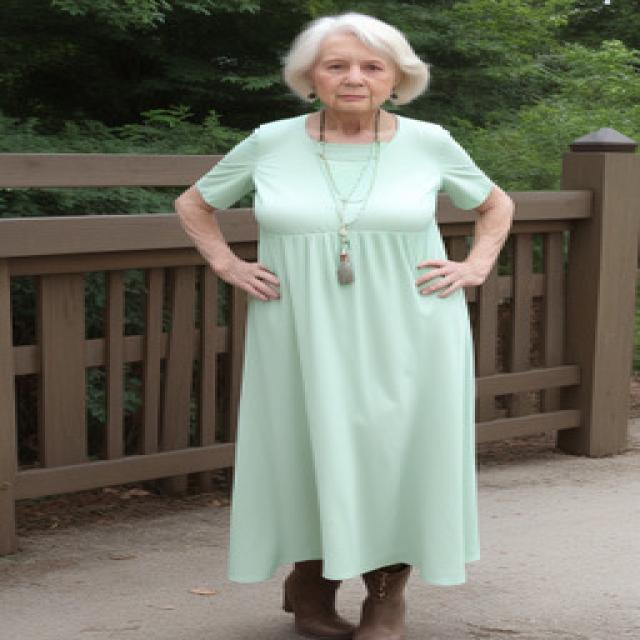Ai human 2: (164, 5, 540, 640)
